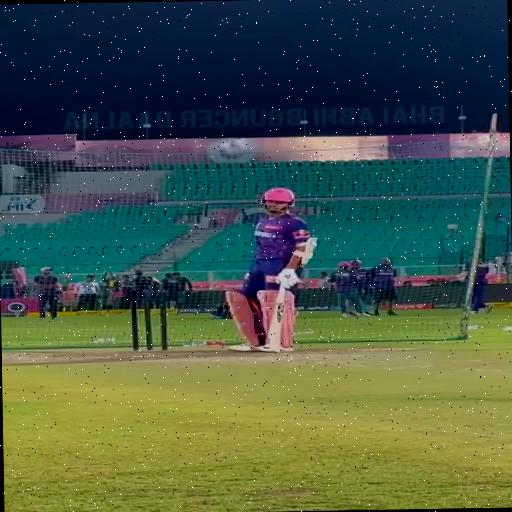Cricket bat: (270, 287, 285, 352)
